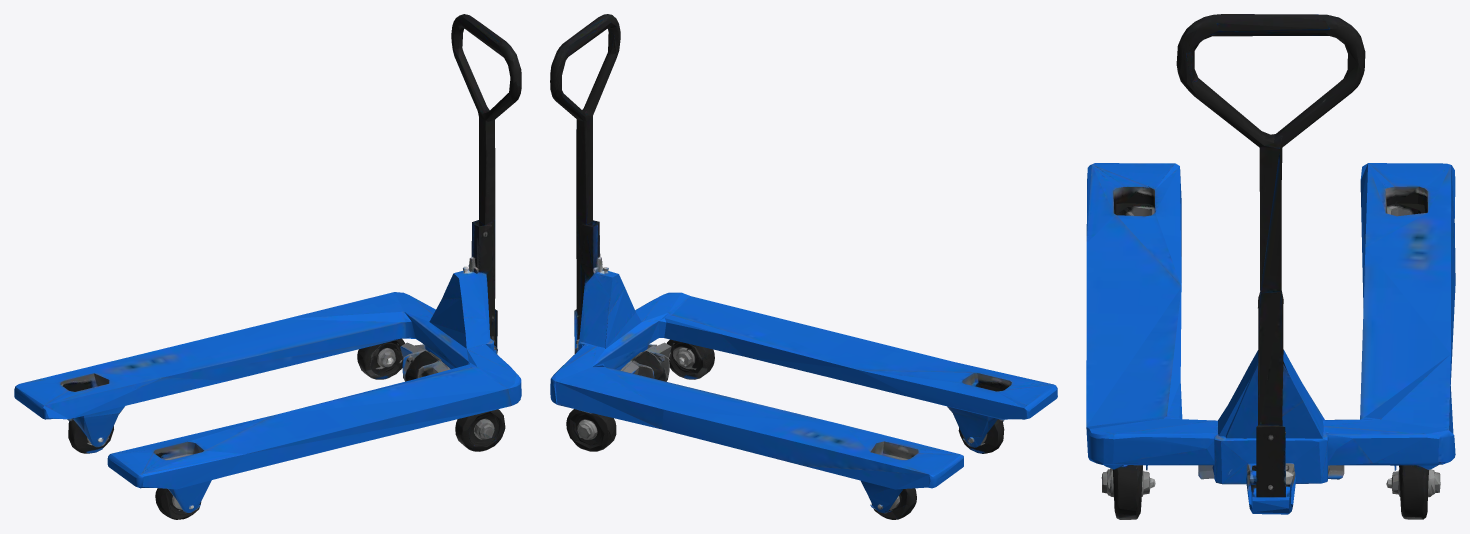
Rendered from hpt.glb.
3 renders of one model, left to right at view 1: azimuth 30°, elevation 25°; view 2: azimuth 150°, elevation 25°; view 3: azimuth 270°, elevation 25°, orthographic. The views are drawn at different scales.
Bounding box in the file's own units: 1.9 × 1.61 × 0.9961.
Materials: 1 (1 with a texture image).
